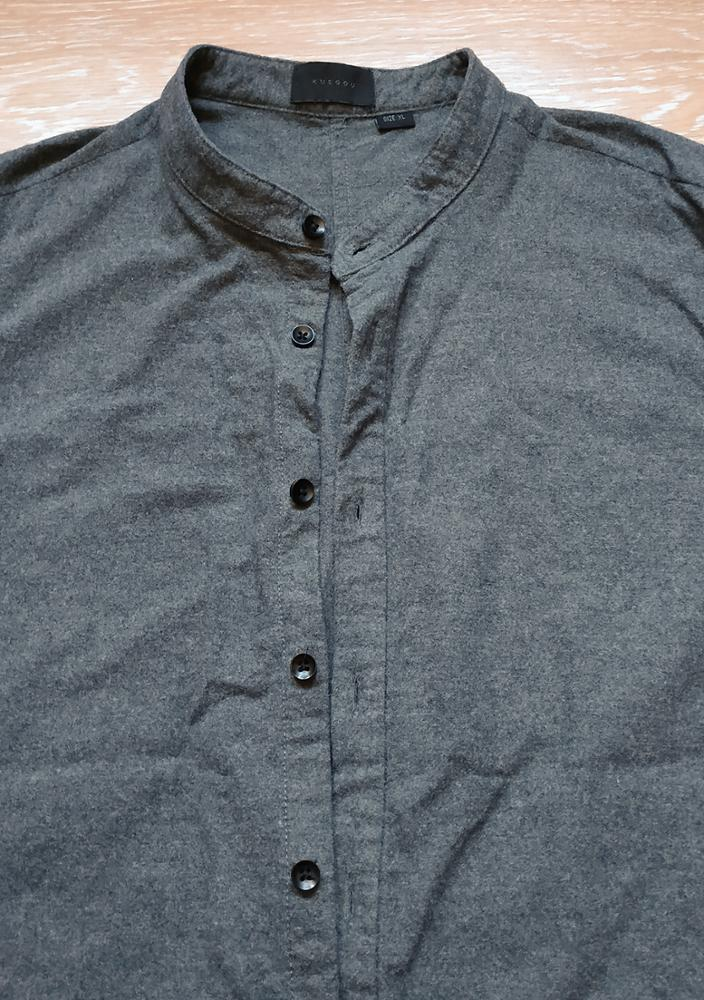shirts: (16, 52, 704, 982)
